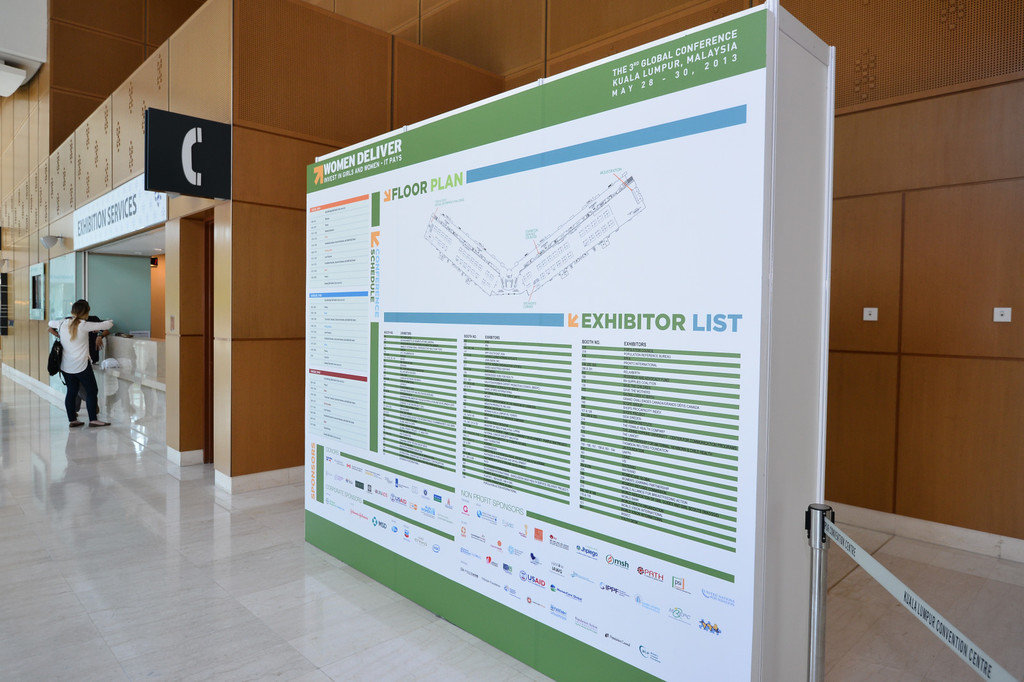Person: (48, 300, 113, 427)
